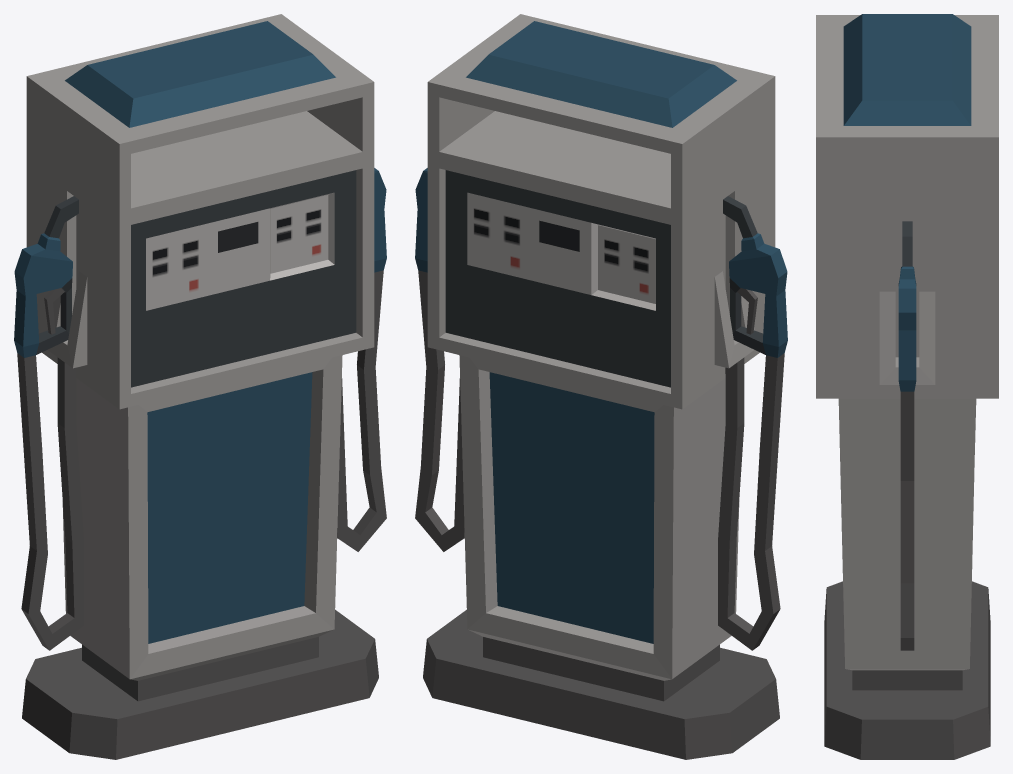
The model's file is SM_Prop_Gaspump_01.fbx.
3 views of the same model, side by side, from view 1: azimuth 30°, elevation 25°; view 2: azimuth 150°, elevation 25°; view 3: azimuth 270°, elevation 25° (orthographic).
Parts seen in each view (by area): view 1: SM_Prop_Gaspump_01; view 2: SM_Prop_Gaspump_01; view 3: SM_Prop_Gaspump_01.
Boxes of the visible parts, x1,y1,x2,y2 form: SM_Prop_Gaspump_01: (14,14,386,759); SM_Prop_Gaspump_01: (415,14,787,759); SM_Prop_Gaspump_01: (816,14,998,759).
Bounding box in the file's own units: 145 × 243 × 63.99.
